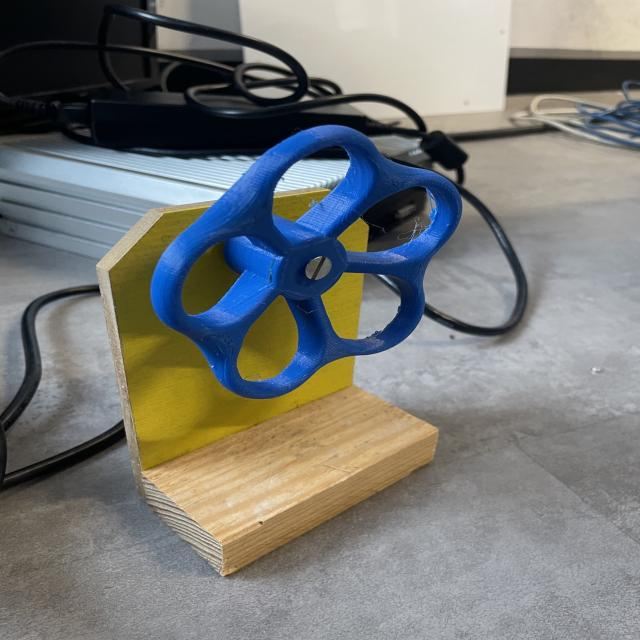Wheel Handle Valve Threaded: (148, 123, 464, 400)
